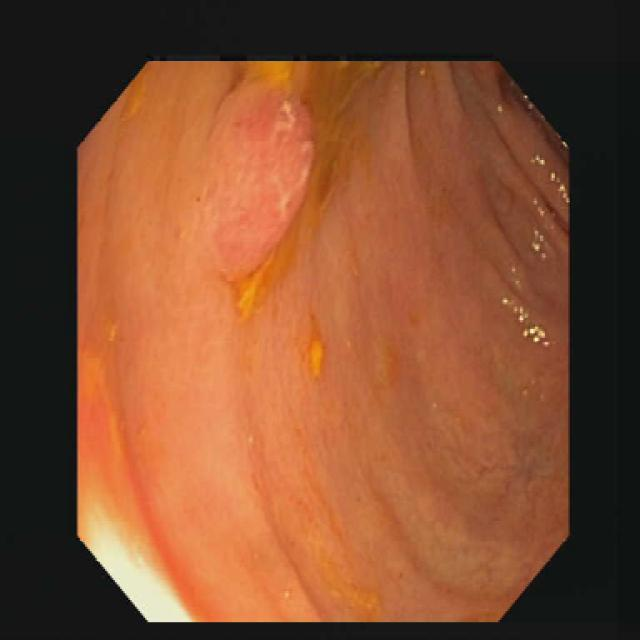tumor: (203, 82, 335, 298)
